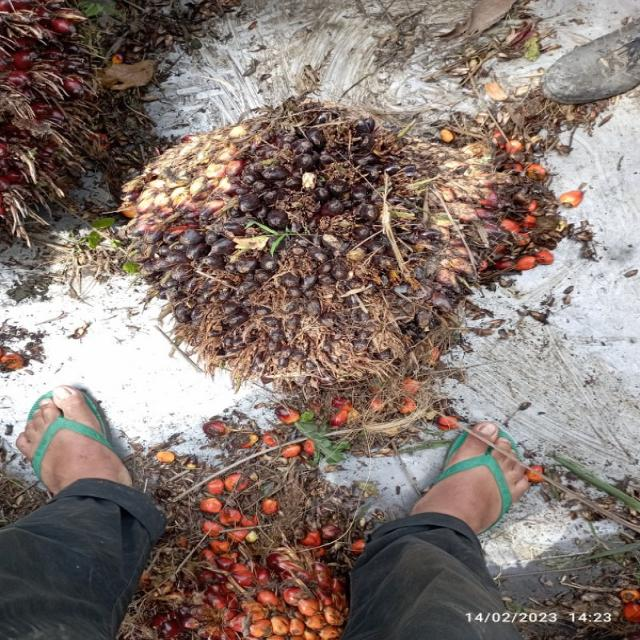fraksi 00: (151, 108, 510, 376)
